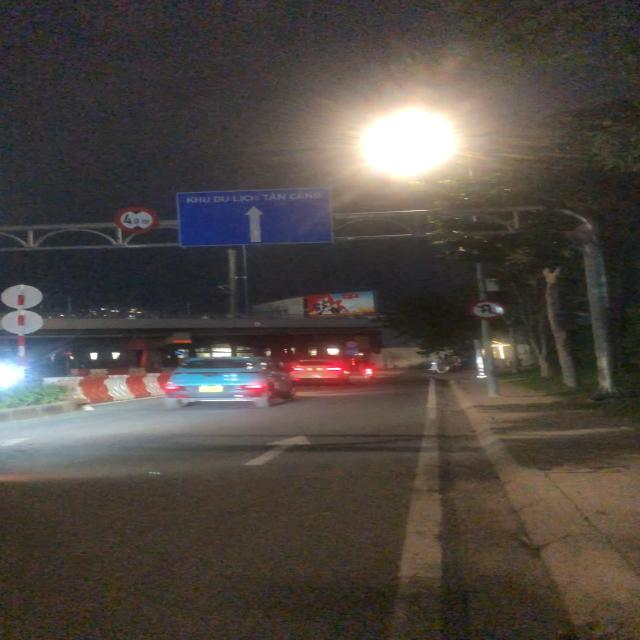Bien bao cam quay dau xe: (467, 299, 505, 320)
Bien bao han che chieu cao: (112, 205, 160, 233)
